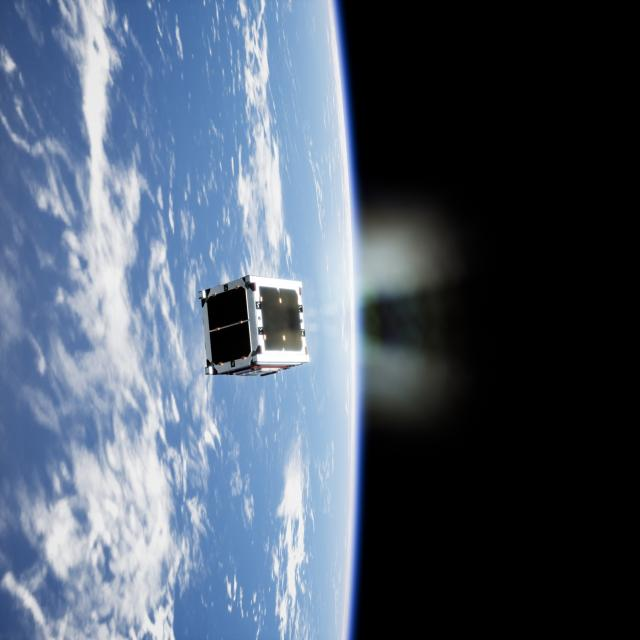medium_debris: (200, 270, 314, 382)
